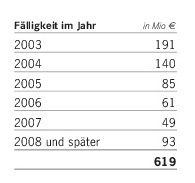table: (0, 0, 195, 183)
